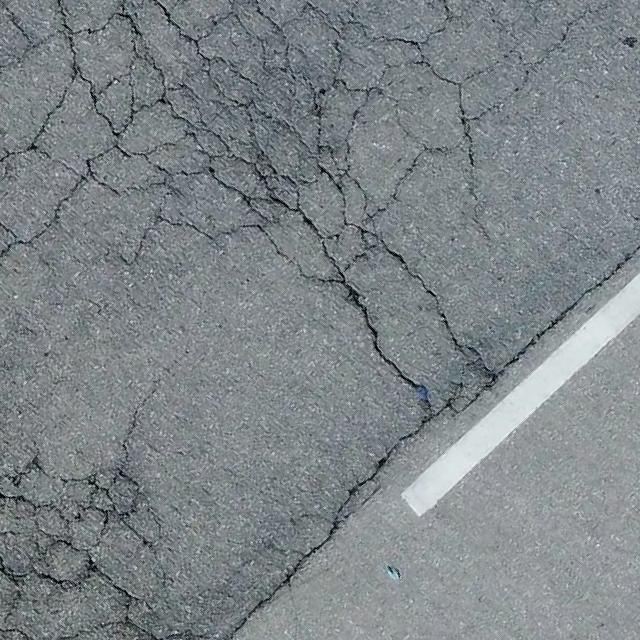GRIETA: (222, 418, 431, 639), (507, 244, 639, 367)
PIEL DE COCODRILO: (0, 0, 639, 430), (0, 413, 211, 639)
